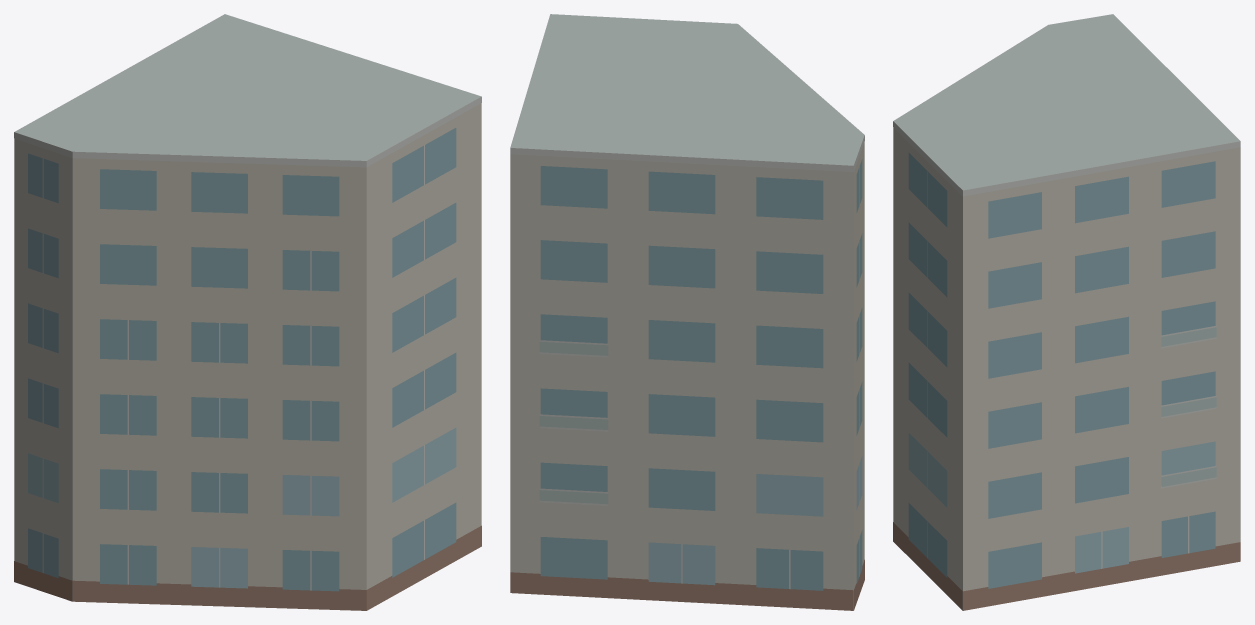
The model's file is survey-upis-32912237.glb.
3 views of the same model, side by side, from view 1: azimuth 30°, elevation 25°; view 2: azimuth 150°, elevation 25°; view 3: azimuth 270°, elevation 25° (orthographic). The views are drawn at different scales.
Parts seen in each view (by area): view 1: survey-upis-32912237.tmp; view 2: survey-upis-32912237.tmp; view 3: survey-upis-32912237.tmp.
Part boxes in pixels (bbox=[...]): survey-upis-32912237.tmp: bbox=[14, 14, 481, 610]; survey-upis-32912237.tmp: bbox=[510, 14, 864, 610]; survey-upis-32912237.tmp: bbox=[893, 14, 1240, 610].
Size of the model in its own units: 15.5 by 17.2 by 12.9.
